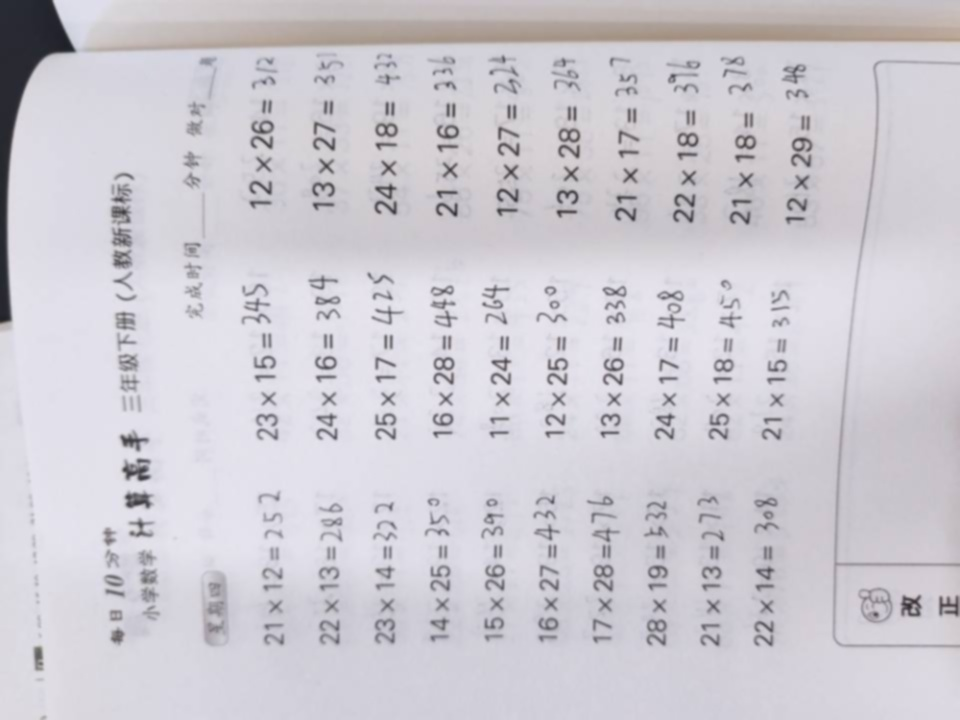equation: (225, 271, 287, 461), (776, 54, 834, 253), (358, 260, 416, 451), (296, 254, 350, 459), (657, 48, 711, 242), (244, 470, 297, 661), (715, 44, 763, 250), (477, 45, 529, 232), (300, 40, 350, 233), (586, 270, 637, 454), (531, 270, 582, 451), (600, 47, 647, 242), (472, 269, 523, 448), (305, 490, 358, 662), (681, 481, 731, 662), (419, 270, 469, 448), (650, 280, 698, 460), (574, 480, 622, 659), (363, 46, 409, 230), (238, 49, 282, 237), (546, 48, 590, 235), (633, 477, 677, 660), (427, 49, 470, 231), (743, 491, 788, 660), (527, 479, 569, 658), (759, 281, 801, 460), (420, 485, 463, 649), (475, 487, 516, 652), (705, 273, 741, 457), (366, 495, 406, 655)
